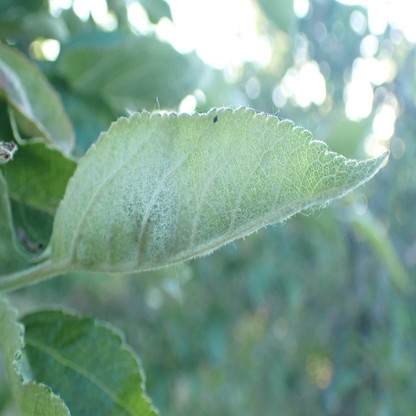powder: (51, 107, 389, 275)
